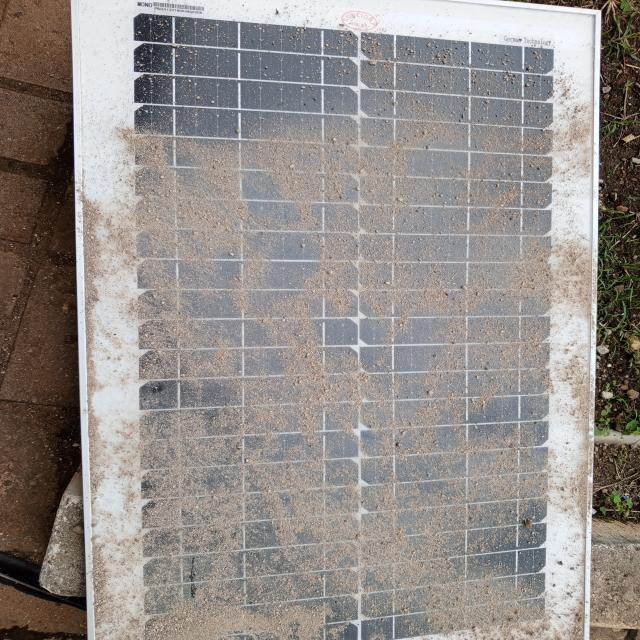Anomaly Solar Panel: (95, 2, 575, 640)
Surface Contaminant: (105, 9, 569, 638)
